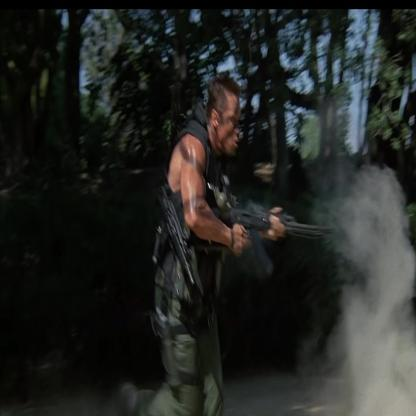Gun: (209, 194, 338, 290), (131, 177, 201, 319)
